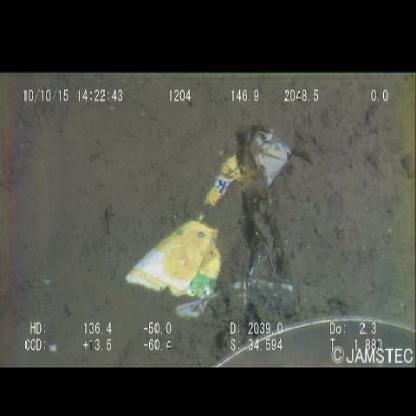Rác: (126, 126, 292, 300)
